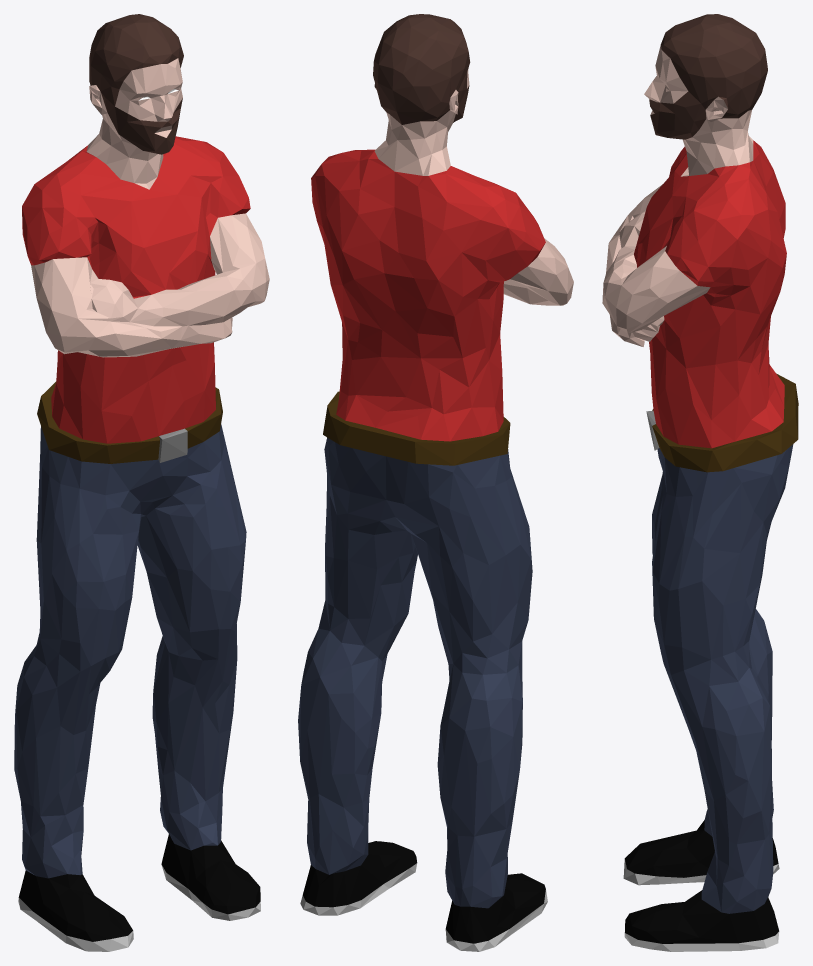
Rendered from person1.fbx.
3 views of the same model, side by side, from view 1: azimuth 30°, elevation 25°; view 2: azimuth 150°, elevation 25°; view 3: azimuth 270°, elevation 25° (orthographic).
Visible parts, largest first — view 1: m_ca01.000; view 2: m_ca01.000; view 3: m_ca01.000.
Boxes of the visible parts, x1,y1,x2,y2 form: m_ca01.000: (14,14,269,951); m_ca01.000: (298,14,573,951); m_ca01.000: (602,14,798,951).
Bounding box in the file's own units: 18.74 × 70.58 × 14.17.
